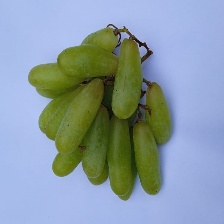grapes: (24, 0, 205, 200)
